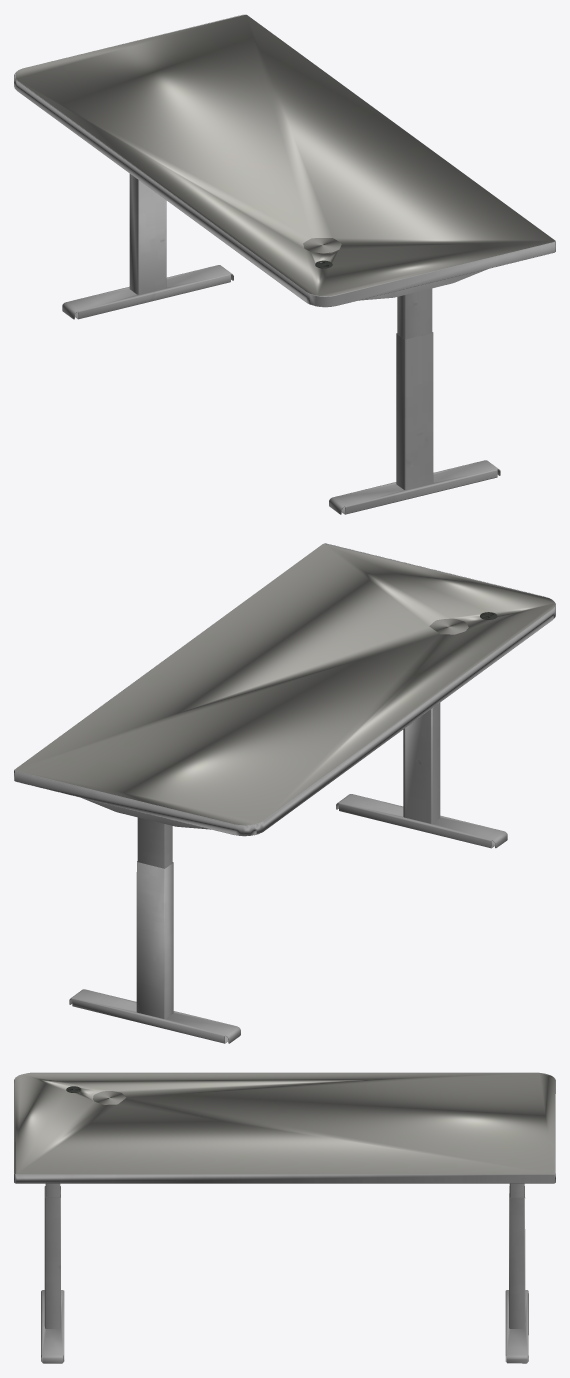
Rendered from desk.glb.
The picture shows the model from 3 angles, top to bottom: view 1: azimuth 30°, elevation 25°; view 2: azimuth 150°, elevation 25°; view 3: azimuth 270°, elevation 25°; orthographic projection. The views are drawn at different scales.
Parts seen in each view (by area): view 1: sm_desk_a01_01; view 2: sm_desk_a01_01; view 3: sm_desk_a01_01.
Boxes of the visible parts, left/top/right/bottom form: sm_desk_a01_01: left=14, top=14, right=555, bottom=514; sm_desk_a01_01: left=14, top=543, right=555, bottom=1043; sm_desk_a01_01: left=14, top=1072, right=555, bottom=1363.
Size of the model in its own units: 0.8018 by 0.7592 by 1.8.
Materials: 3 (3 with a texture image).
